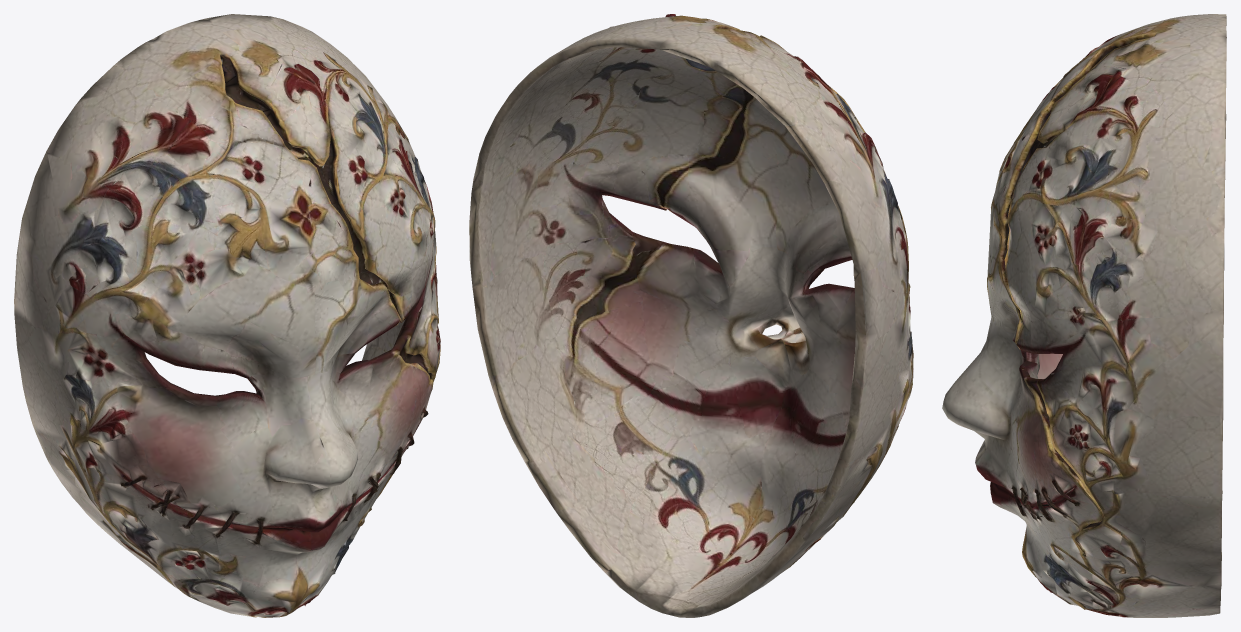
The picture shows the model from 3 angles, left to right: view 1: azimuth 30°, elevation 25°; view 2: azimuth 150°, elevation 25°; view 3: azimuth 270°, elevation 25°; orthographic projection. The views are drawn at different scales.
Size of the model in its own units: 1.37 by 1.9 by 0.8546.
Materials: 1 (1 with a texture image).
